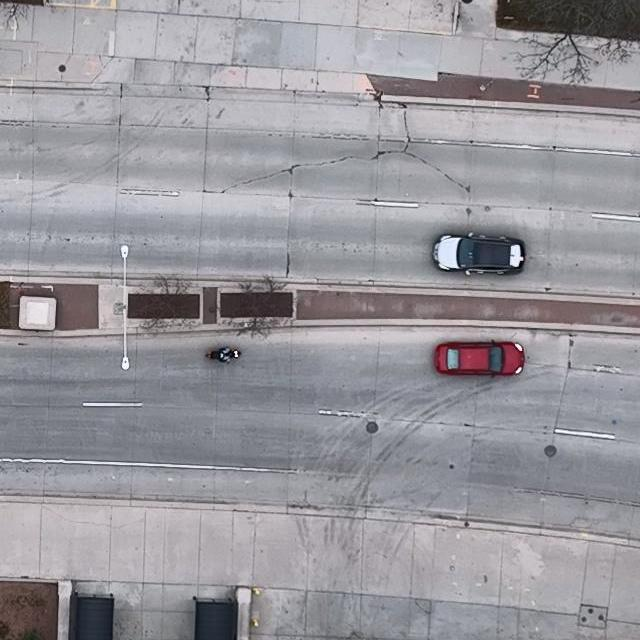car: (433, 232, 526, 276), (433, 339, 525, 377)
